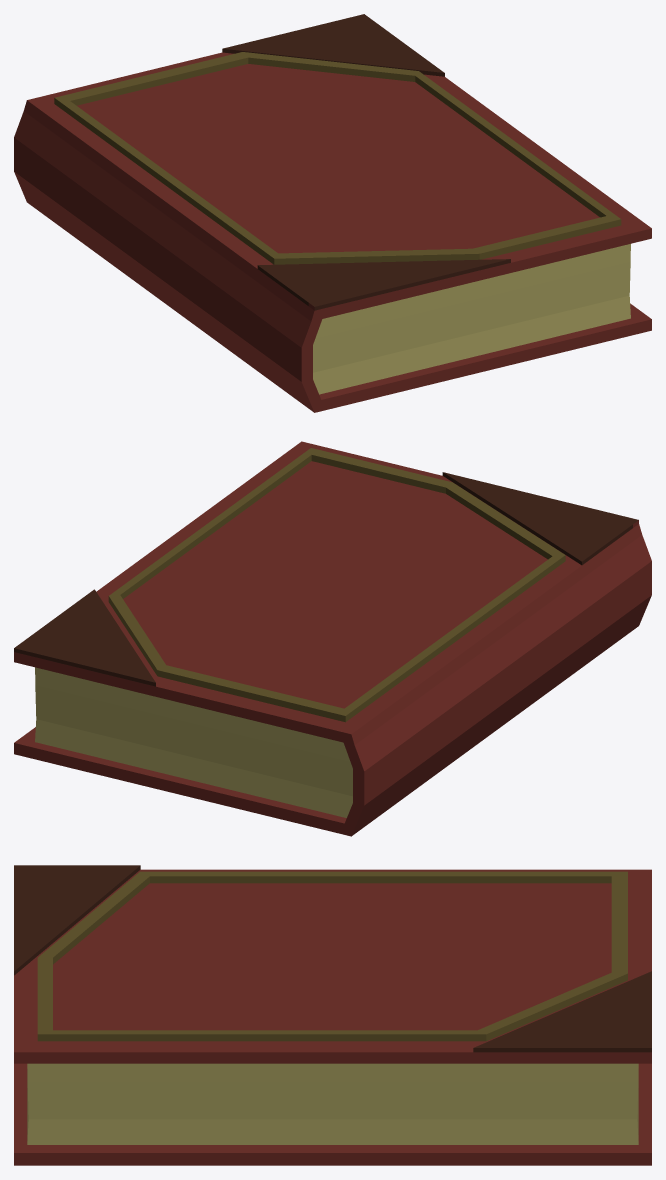
The model's file is book.fbx.
3 renders of one model, top to bottom at view 1: azimuth 30°, elevation 25°; view 2: azimuth 150°, elevation 25°; view 3: azimuth 270°, elevation 25°, orthographic. The views are drawn at different scales.
Parts seen in each view (by area): view 1: Cube; view 2: Cube; view 3: Cube.
Boxes of the visible parts, bbox=[...] form: Cube: bbox=[14, 14, 651, 412]; Cube: bbox=[14, 441, 651, 836]; Cube: bbox=[14, 865, 651, 1165].
Bounding box in the file's own units: 147 × 43.43 × 209.
